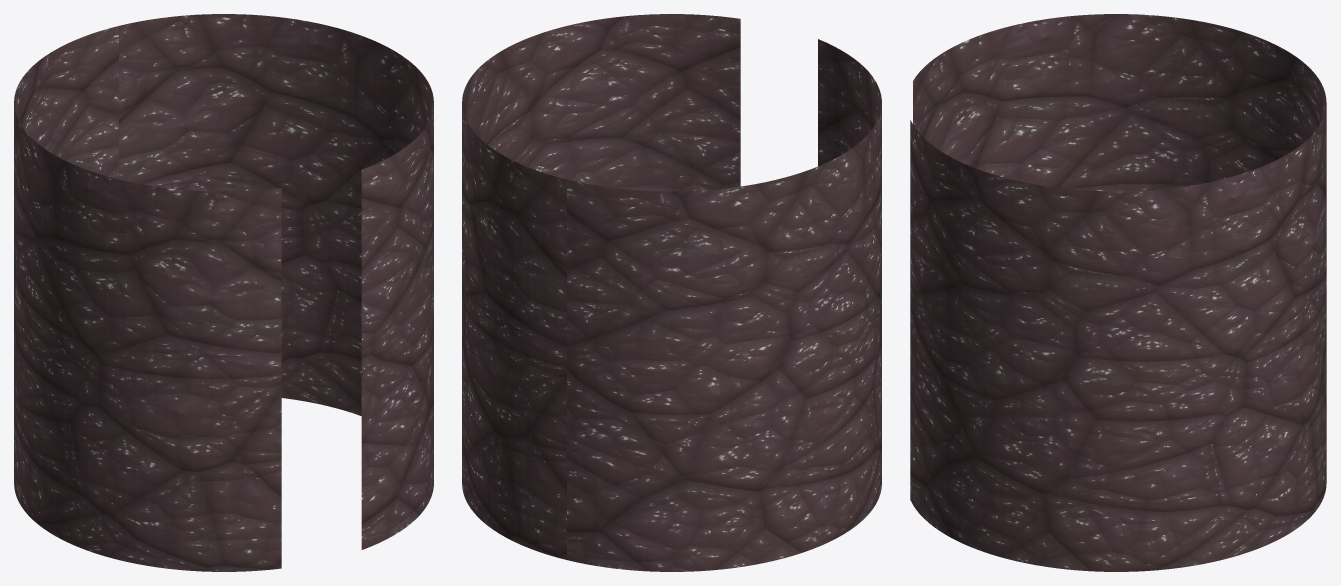
Rendered from FLESHWALL.fbx.
3 views of the same model, side by side, from view 1: azimuth 30°, elevation 25°; view 2: azimuth 150°, elevation 25°; view 3: azimuth 270°, elevation 25° (orthographic).
Visible parts, largest first — view 1: Cylinder; view 2: Cylinder; view 3: Cylinder.
Part boxes in pixels (x1,y1,x2,y2): Cylinder: [14, 14, 433, 571]; Cylinder: [462, 14, 881, 571]; Cylinder: [910, 14, 1326, 571].
Bounding box in the file's own units: 200 × 200 × 198.
1 material, 1 textured.
